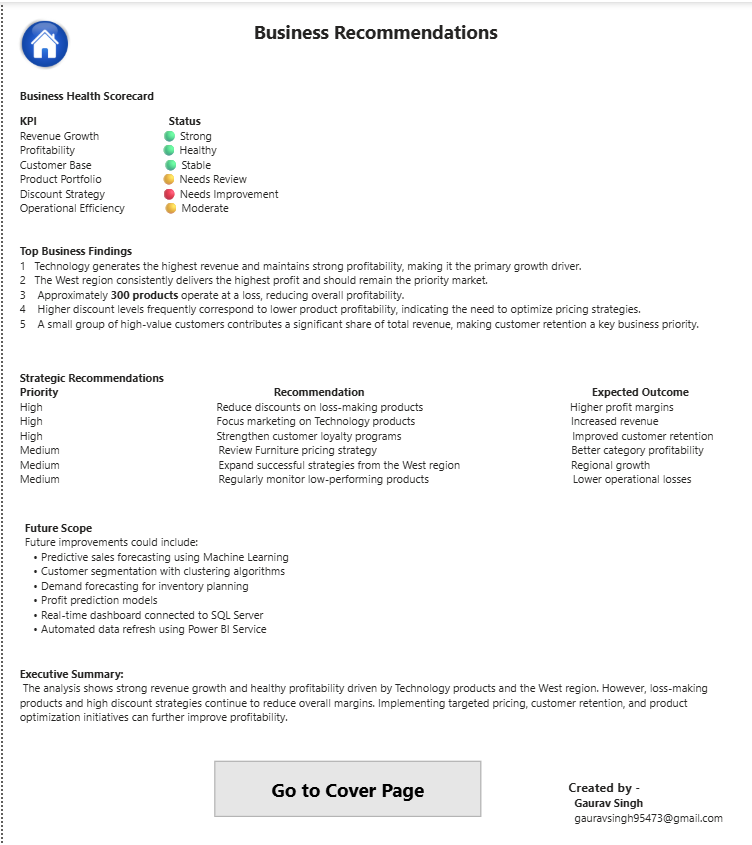

The page's visual inventory and layout, read from the dashboard file:
{"tool":"powerbi","page":{"name":"Business Recommendations","canvas":[1280,1440],"ordinal":5},"visuals":[{"type":"textbox","box":[24,144,456,288],"z":0},{"type":"textbox","box":[24,408,1200,192],"z":1},{"type":"textbox","box":[24,624,1224,216],"z":2},{"type":"textbox","box":[192,24,888,72],"z":3},{"type":"image","box":[24,24,96,96],"z":4},{"type":"textbox","box":[32,880,1184,240],"z":5},{"type":"textbox","box":[960,1320,312,120],"z":6},{"type":"textbox","box":[24,1128,1200,144],"z":7},{"type":"actionButton","box":[360,1296,456,96],"z":8}]}

Visuals, with their boxes in screenshot pixels (x1, y1, x2, y2), scaled from the page's 1280x1440 canvas onto the 752x845 screenshot:
textbox: [left=14, top=84, right=282, bottom=254]
textbox: [left=14, top=239, right=719, bottom=352]
textbox: [left=14, top=366, right=733, bottom=493]
textbox: [left=113, top=14, right=634, bottom=56]
image: [left=14, top=14, right=70, bottom=70]
textbox: [left=19, top=516, right=714, bottom=657]
textbox: [left=564, top=775, right=747, bottom=844]
textbox: [left=14, top=662, right=719, bottom=746]
actionButton: [left=212, top=760, right=479, bottom=817]
